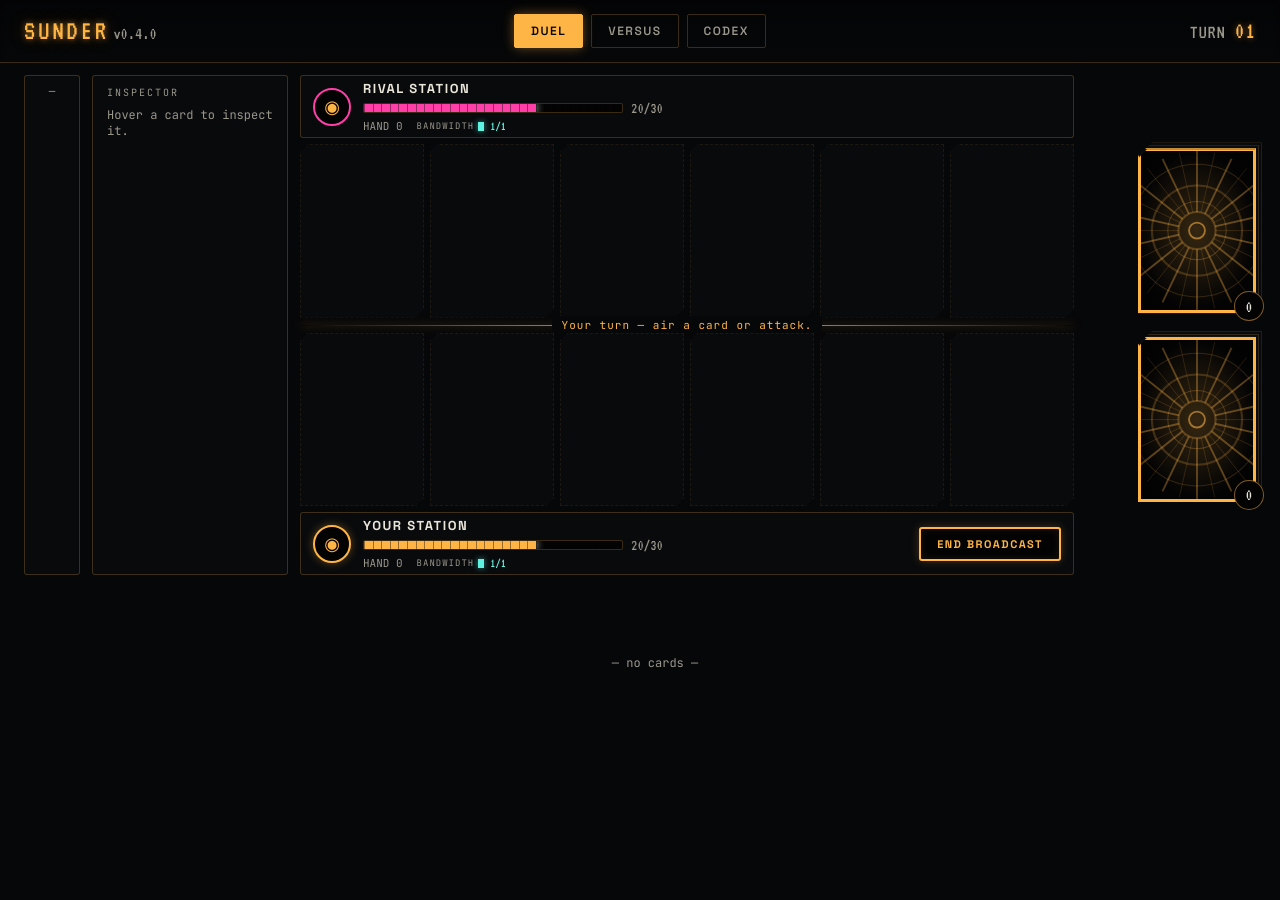
App — versus › saves the seat token and jumps to the duel when the match goes live
The width and height of the screenshot is (1280, 900).
Click the button "VERSUS".
click(635, 31)  # box [591, 14, 679, 48]
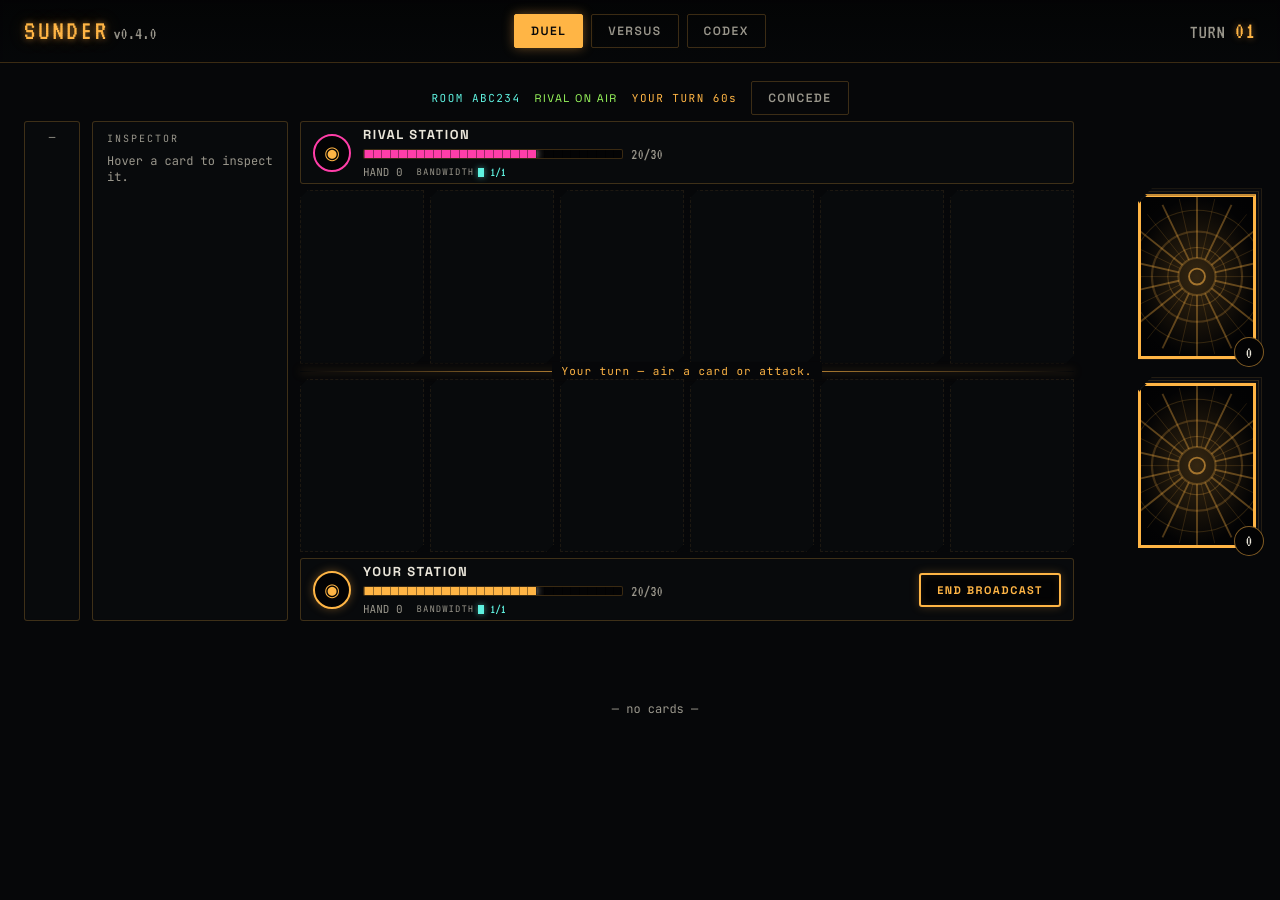
Expected: the button "END BROADCAST" is shown, [919, 573, 1061, 607]
Result: the text "ROOM ABC234" is shown at [432, 91, 521, 105]
